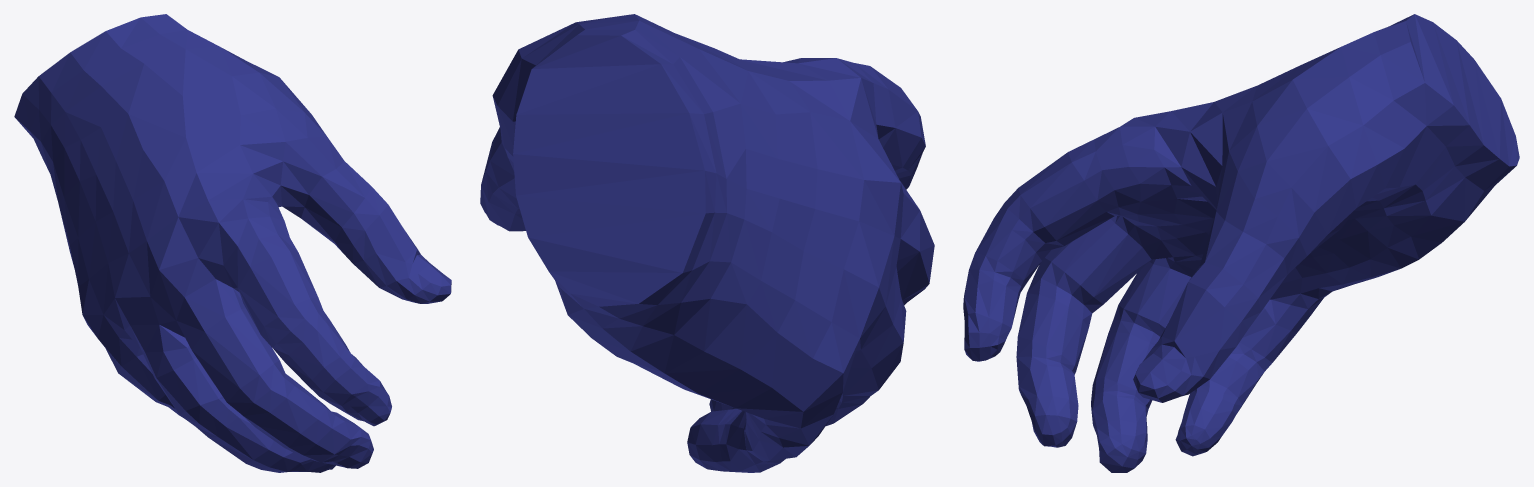
3 views of the same model, side by side, from view 1: azimuth 30°, elevation 25°; view 2: azimuth 150°, elevation 25°; view 3: azimuth 270°, elevation 25° (orthographic). The views are drawn at different scales.
Size of the model in its own units: 0.1132 by 0.1332 by 0.1592.
